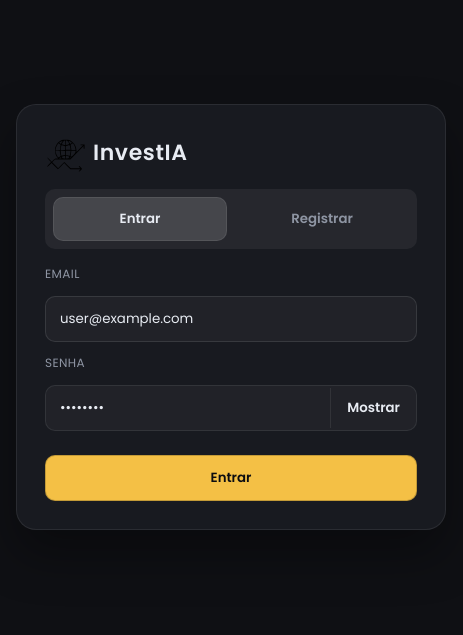
Test: Login page › allows switching to register mode and shows extra fields
Click the button "Registrar": [322, 219] box top-left (235, 197), bottom-right (409, 241)
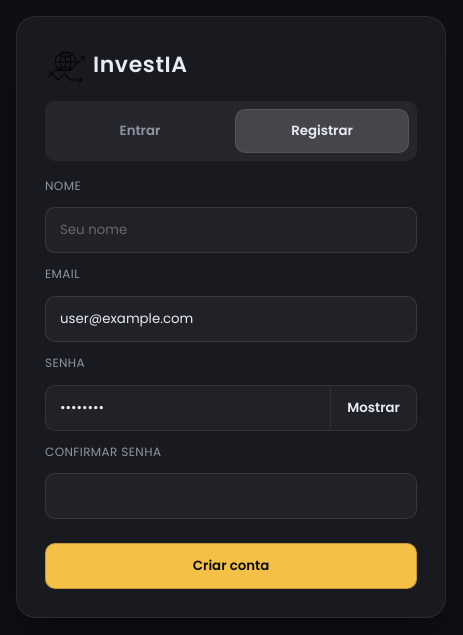
Expected: the field labelled "Nome" is shown, top-left (45, 207), bottom-right (417, 253)
Expected: the password field labelled "Confirmar senha" is shown, top-left (45, 473), bottom-right (417, 519)
Expected: the button "Criar conta" is shown, top-left (45, 543), bottom-right (417, 589)
